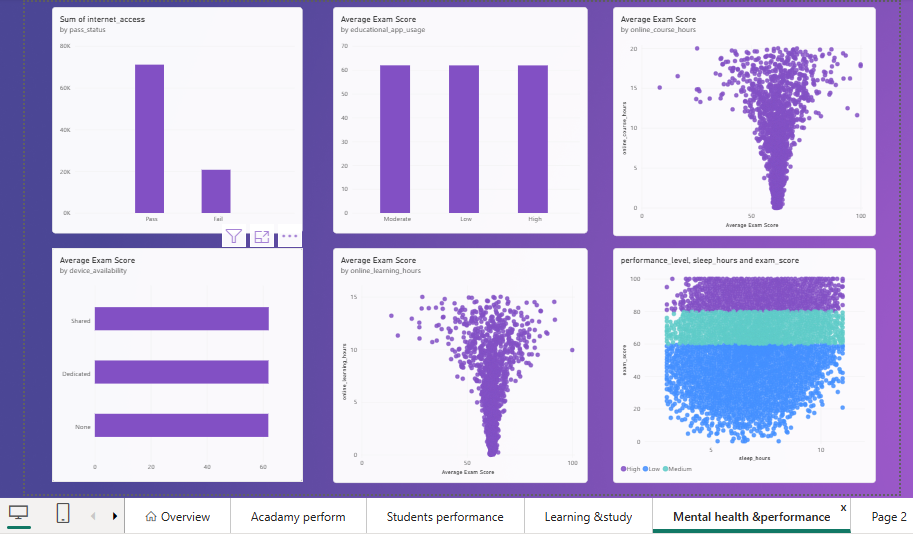

What the dashboard file says about the page in this screenshot:
{"tool":"powerbi","page":{"name":"Mental health &performance","canvas":[1920,1080],"ordinal":4},"visuals":[{"type":"columnChart","fields":{"Category":["student_exam_performance.pass_status"],"Y":["Sum(student_exam_performance.internet_access)"]},"box":[59.6,11.5,549.9,497.2],"z":0},{"type":"barChart","fields":{"Category":["student_exam_performance.device_availability"],"Y":["student_exam_performance.Average Exam Score"]},"box":[59.6,540.7,549.9,513.2],"z":1000},{"type":"clusteredColumnChart","fields":{"Category":["student_exam_performance.educational_app_usage"],"Y":["student_exam_performance.Average Exam Score"]},"box":[675.9,11.5,559,497.2],"z":2000},{"type":"scatterChart","fields":{"X":["student_exam_performance.Average Exam Score"],"Y":["student_exam_performance.online_learning_hours"]},"box":[675.9,540.7,559,515.5],"z":3000},{"type":"scatterChart","fields":{"X":["student_exam_performance.Average Exam Score"],"Y":["student_exam_performance.online_course_hours"]},"box":[1290.7,11,577.3,502.7],"z":4000},{"type":"scatterChart","fields":{"Series":["student_exam_performance.performance_level"],"X":["student_exam_performance.sleep_hours"],"Y":["student_exam_performance.exam_score"]},"box":[1290.7,540,577.3,515.9],"z":5000}]}

Visuals, with their boxes in screenshot pixels (x1, y1, x2, y2):
columnChart - student_exam_performance.pass_status x Sum(student_exam_performance.internet_access): select_region(53, 8, 302, 232)
barChart - student_exam_performance.device_availability x student_exam_performance.Average Exam Score: select_region(53, 247, 302, 479)
clusteredColumnChart - student_exam_performance.educational_app_usage x student_exam_performance.Average Exam Score: select_region(332, 8, 585, 232)
scatterChart - student_exam_performance.Average Exam Score x student_exam_performance.online_learning_hours: select_region(332, 247, 585, 480)
scatterChart - student_exam_performance.Average Exam Score x student_exam_performance.online_course_hours: select_region(610, 7, 871, 235)
scatterChart - student_exam_performance.performance_level x student_exam_performance.sleep_hours: select_region(610, 247, 871, 480)
